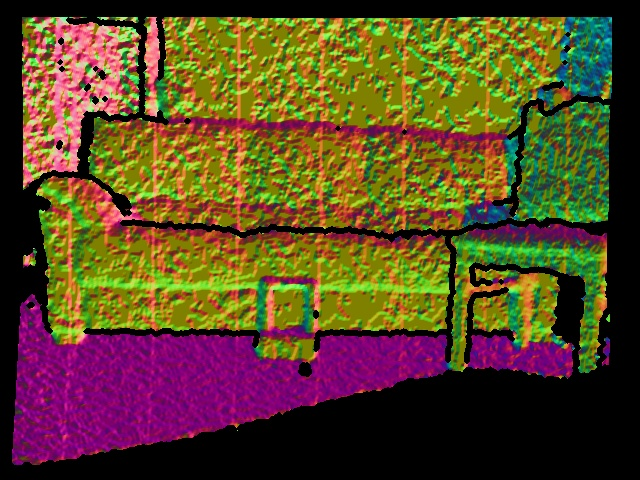station: (256, 279, 319, 362)
